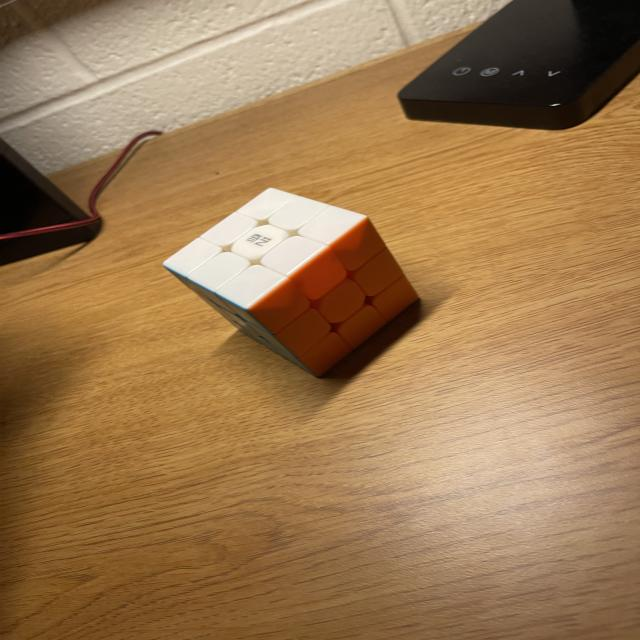Rubiks Cube: (162, 186, 418, 377)
